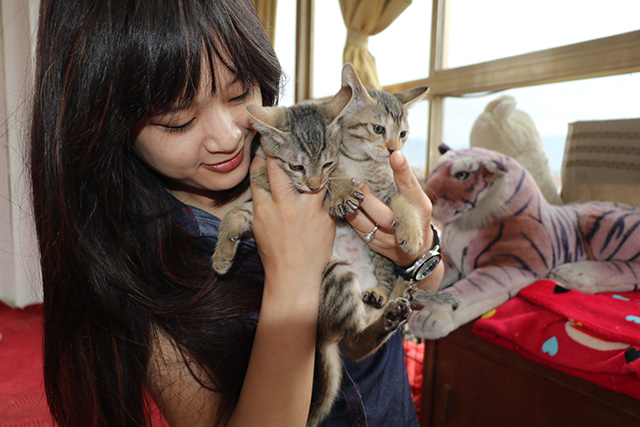cat: (208, 85, 408, 417), (318, 66, 456, 316)
human: (19, 1, 436, 424)
